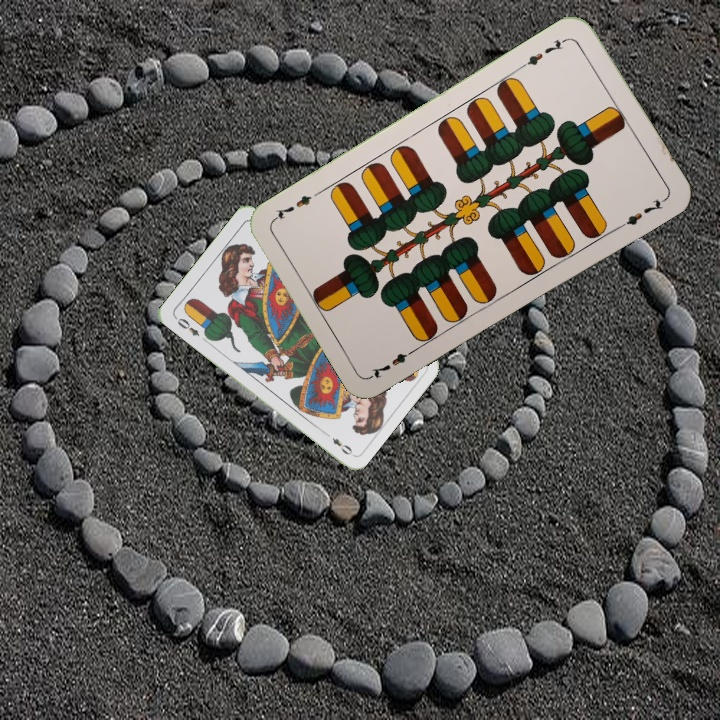E7: (367, 343, 420, 382), (517, 34, 570, 71)
EO: (171, 313, 202, 339)
